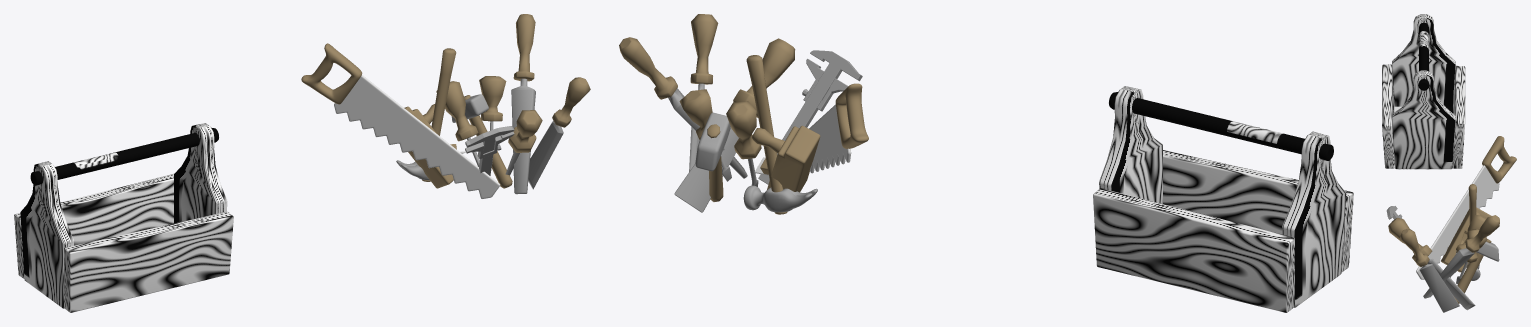
Rendered from tools2.glb.
3 views of the same model, side by side, from view 1: azimuth 30°, elevation 25°; view 2: azimuth 150°, elevation 25°; view 3: azimuth 270°, elevation 25° (orthographic). The views are drawn at different scales.
Parts seen in each view (by area): view 1: Cube.042, saw.002, Cube.044, Cube.041, Cube.045, Circle.018, Cube.046, Circle.029, Circle.028, Circle.027, hammer.003, Circle.020 (+8 smaller); view 2: Cube.044, Cube.042, Cube.041, Cube.045, Circle.018, rub.002, Cube.050, saw.002, Cube.046, hammer.003, Circle.025, Circle.028 (+9 smaller); view 3: Cube.045, Cube.041, saw.002, Cube.042, Cube.044, Circle.027, Cube.046, rub.002, Circle.018, Circle.028, Circle.029, Circle.025 (+8 smaller).
Boxes of the visible parts, x1,y1,x2,y2 form: Cube.042: (64, 211, 233, 312); saw.002: (334, 75, 500, 198); Cube.044: (14, 173, 174, 278); Cube.041: (20, 161, 73, 308); Cube.045: (174, 123, 227, 223); Circle.018: (30, 127, 218, 185); Cube.046: (301, 43, 362, 104); Circle.029: (511, 78, 535, 194); Circle.028: (513, 14, 535, 81); Circle.027: (528, 120, 563, 189); hammer.003: (422, 48, 456, 181); Circle.020: (436, 81, 478, 141); Cube.044: (1093, 188, 1294, 312); Cube.042: (1163, 150, 1353, 272); Cube.041: (1282, 131, 1346, 307); Cube.045: (1099, 86, 1162, 203); Circle.018: (1109, 92, 1333, 160); rub.002: (767, 125, 820, 192); Cube.050: (758, 50, 862, 184); saw.002: (809, 104, 851, 173); Cube.046: (835, 83, 868, 148); hammer.003: (746, 55, 787, 214); Circle.025: (674, 127, 738, 212); Circle.028: (619, 37, 677, 99); Cube.045: (1392, 70, 1455, 169); Cube.041: (1392, 14, 1455, 106); saw.002: (1416, 165, 1499, 279); Cube.042: (1382, 64, 1394, 168); Cube.044: (1452, 65, 1465, 168); Circle.027: (1419, 264, 1459, 312); Cube.046: (1482, 136, 1516, 183); rub.002: (1441, 207, 1491, 272); Circle.018: (1418, 22, 1429, 90); Circle.028: (1465, 215, 1499, 252); Circle.029: (1423, 248, 1474, 298); Circle.025: (1427, 259, 1475, 310).
Bounding box in the file's own units: 4.77 × 1.35 × 1.38.
Materials: 4 (1 with a texture image).
